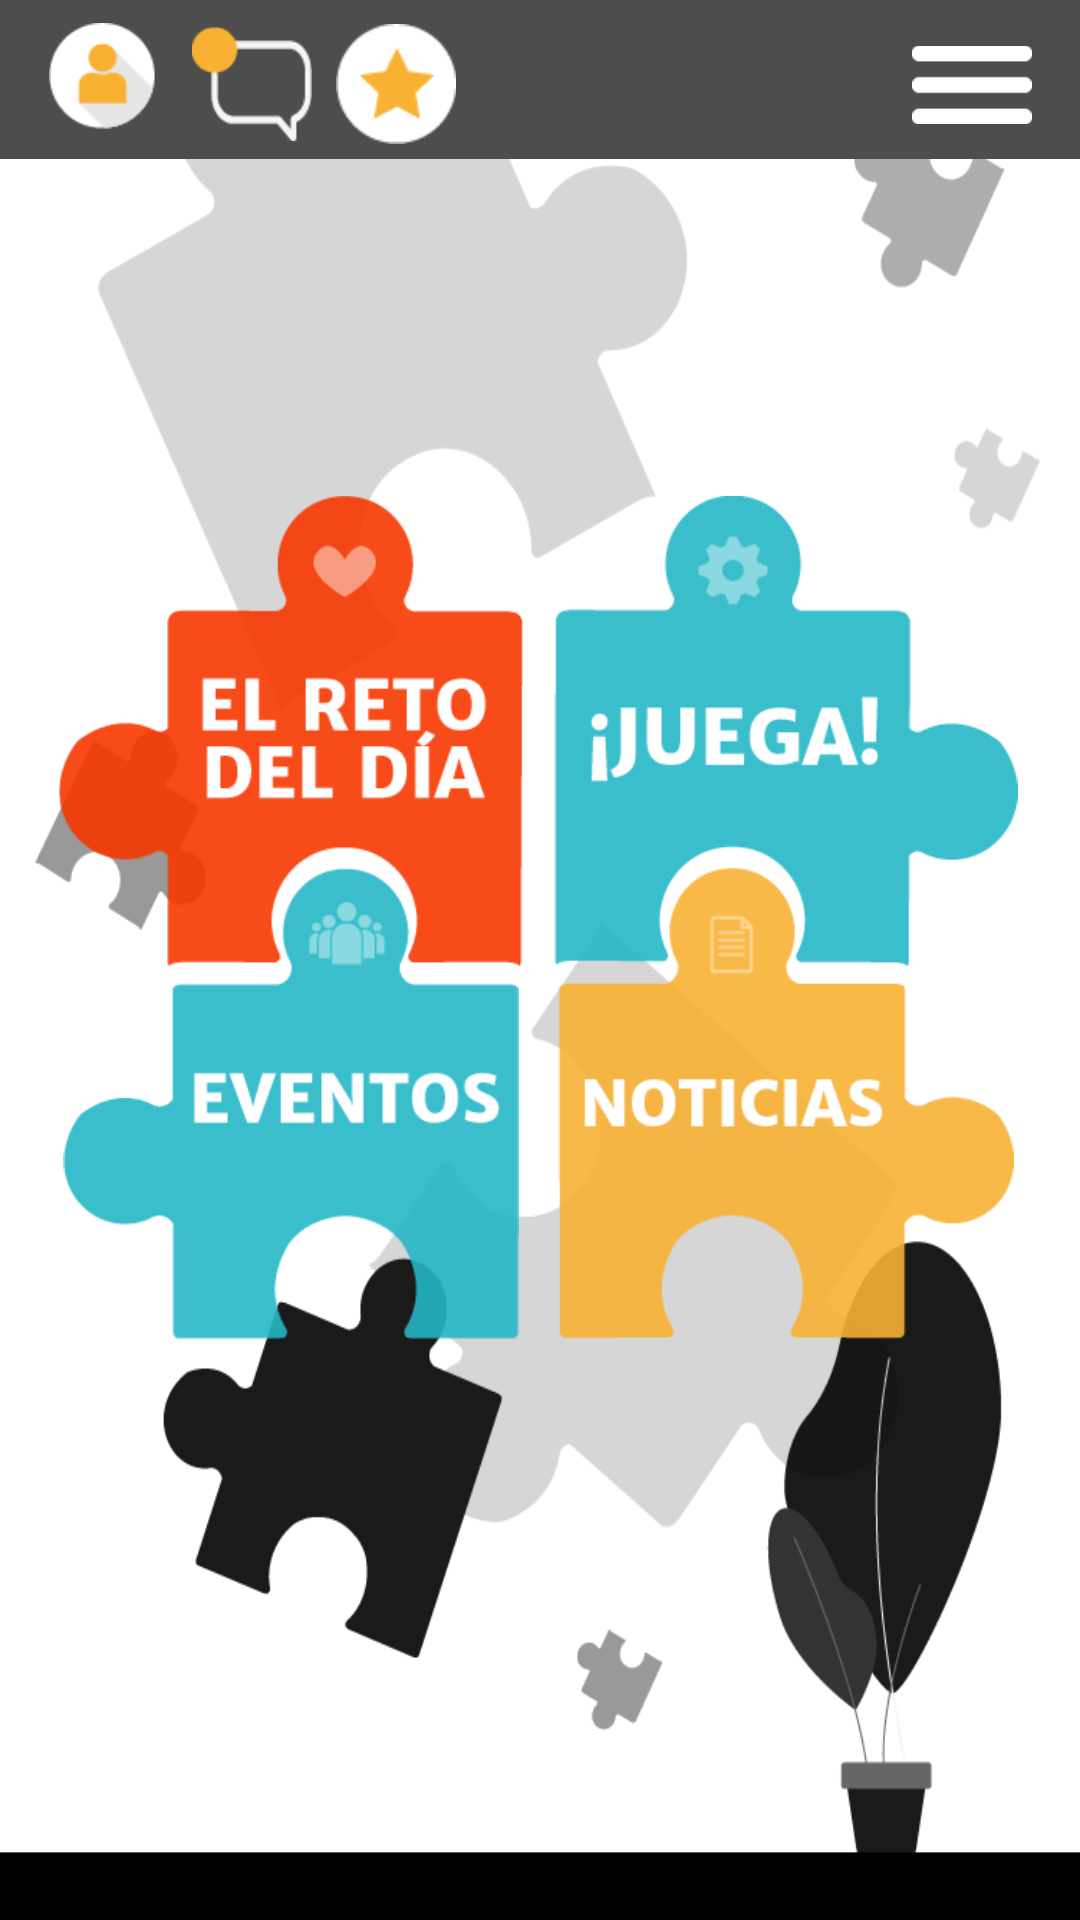

Where to tap for icons on this 1080px×1920px app screen, as (x,y):
estrella: (396,84)
login: (102,76)
mensaje: (252,84)
tres lineas: (972,85)
